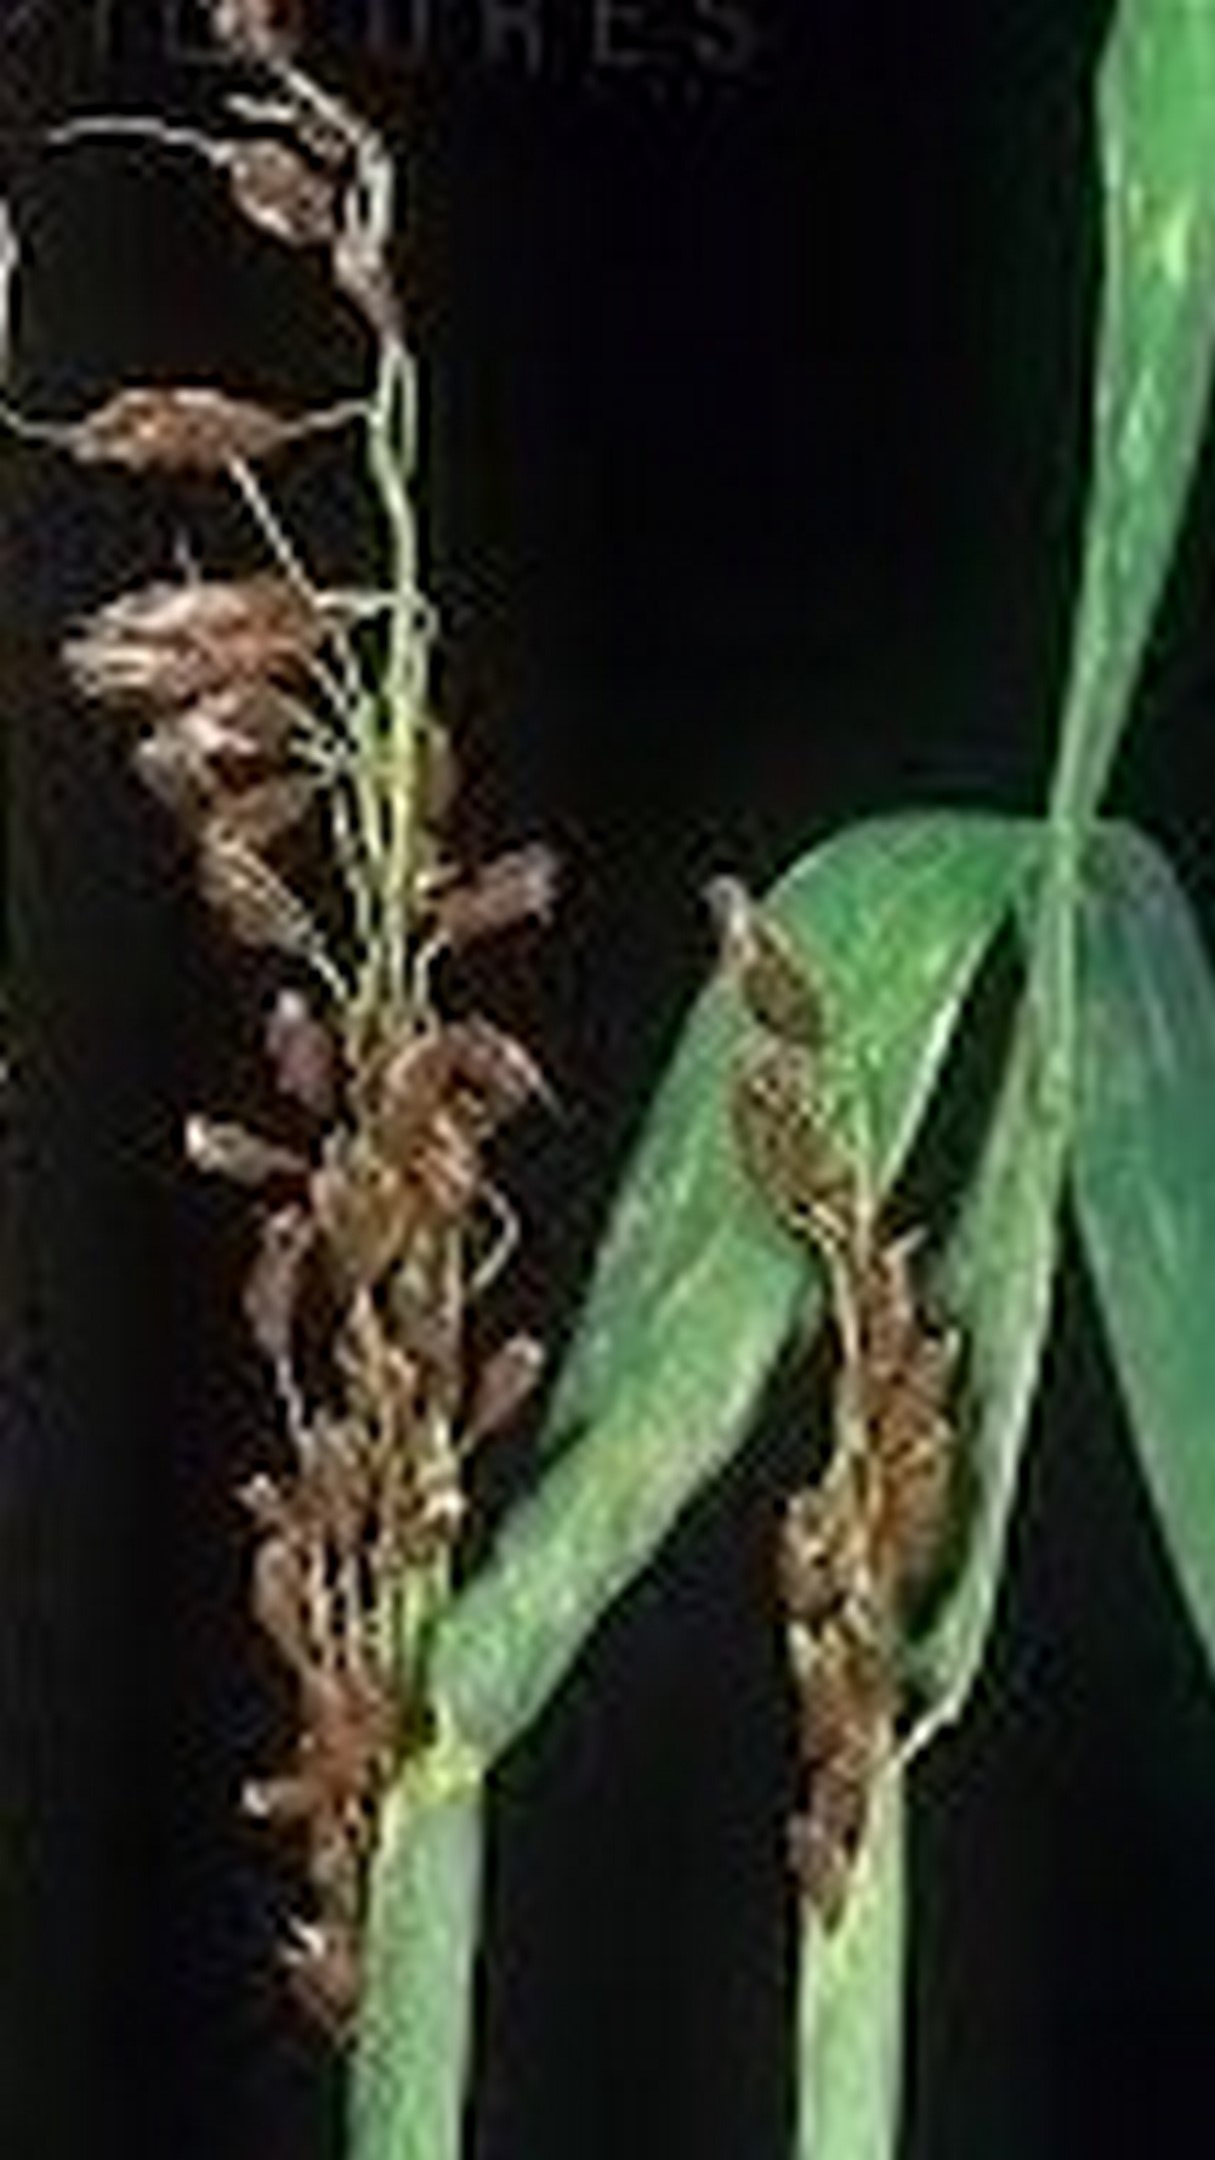Wheat Loose Smut: (43, 163, 543, 1949)
